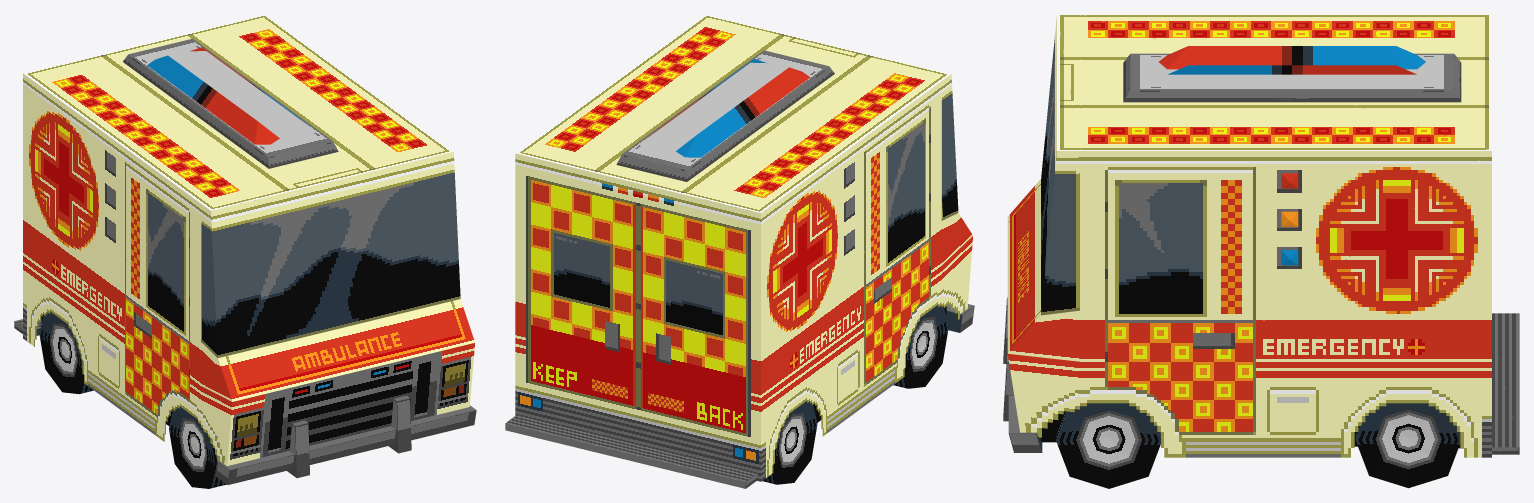
The model's file is ambulance.gltf.
The picture shows the model from 3 angles, left to right: view 1: azimuth 30°, elevation 25°; view 2: azimuth 150°, elevation 25°; view 3: azimuth 270°, elevation 25°; orthographic projection. The views are drawn at different scales.
Size of the model in its own units: 5.91 by 7.16 by 9.16.
1 material, 1 textured.
